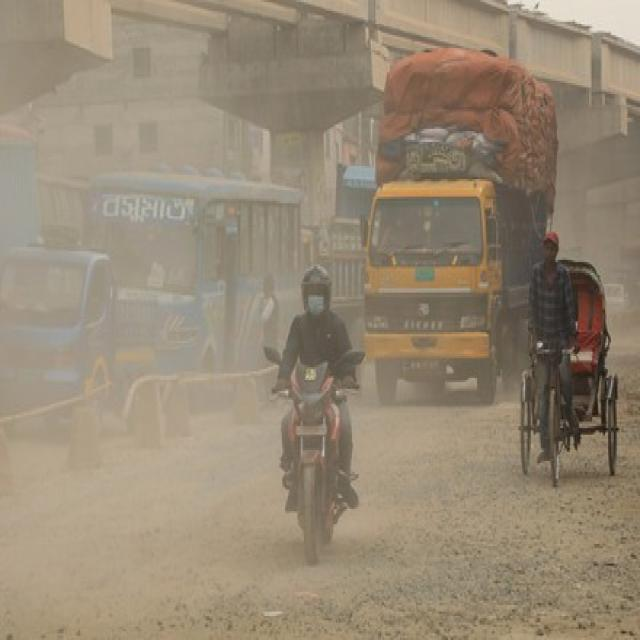bike: (262, 350, 359, 561)
rickshaw: (512, 269, 615, 496)
